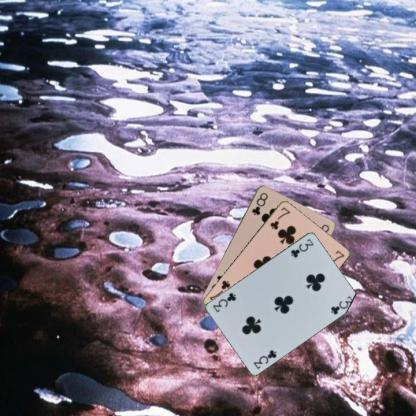3c: (251, 347, 278, 370), (288, 236, 314, 259)
7c: (267, 204, 292, 230)
8c: (249, 190, 269, 216)
